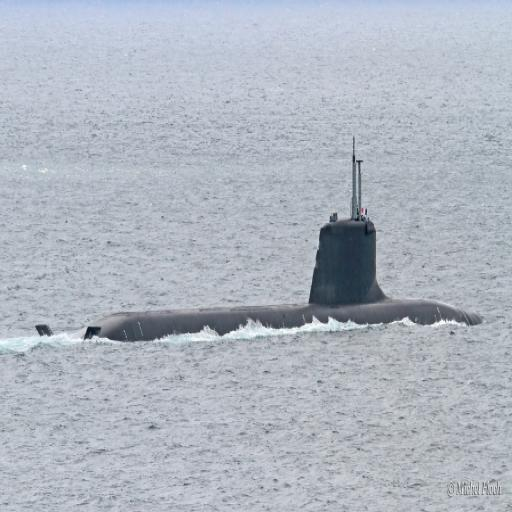submarine: (37, 120, 494, 346)
